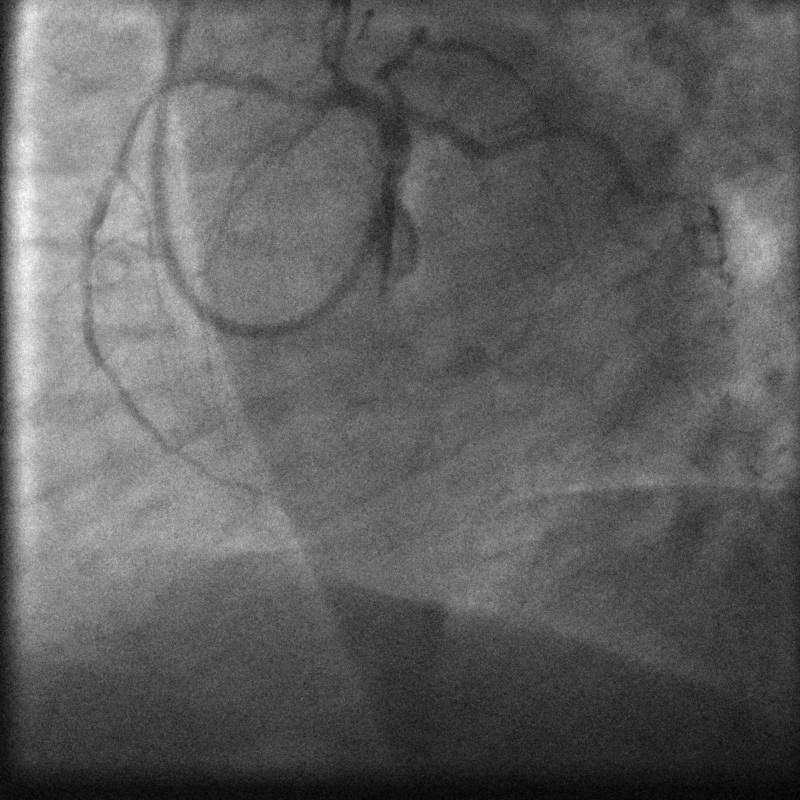Stenosis: (263, 73, 334, 116)
